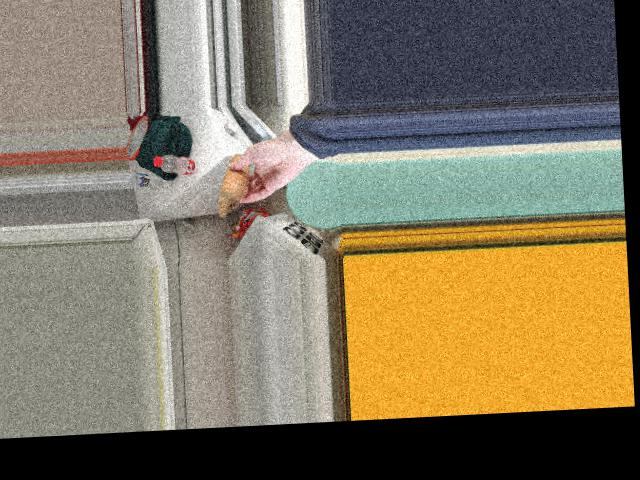sweet_potato: (220, 160, 249, 200)
